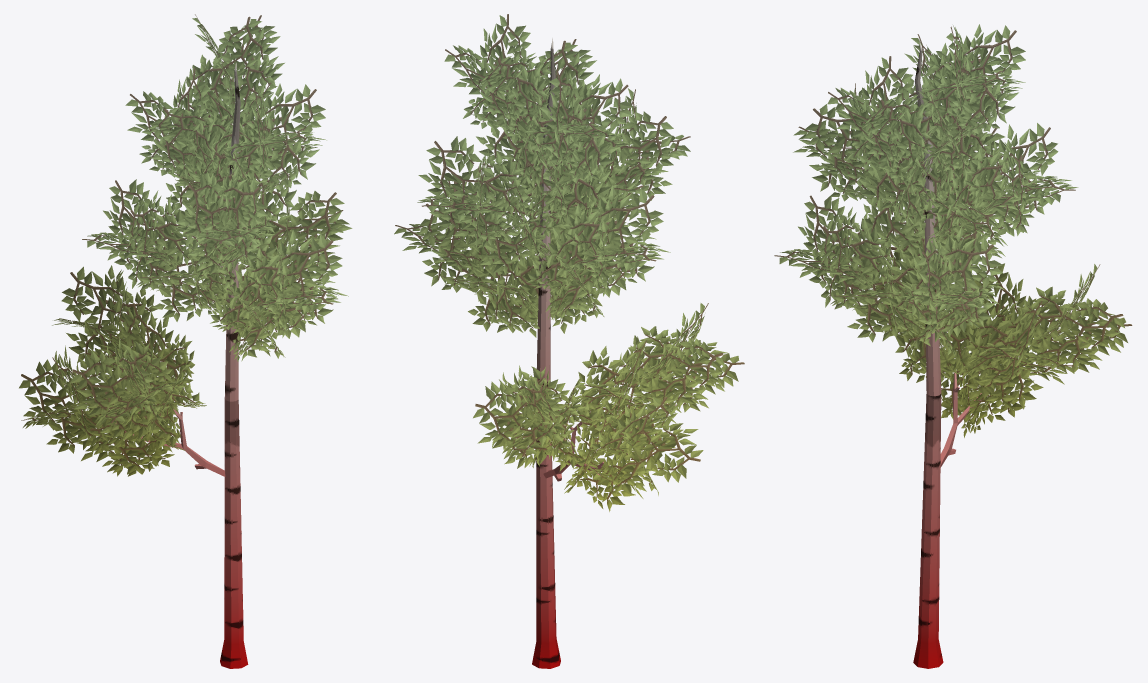
The model's file is source.gltf.
3 views of the same model, side by side, from view 1: azimuth 30°, elevation 25°; view 2: azimuth 150°, elevation 25°; view 3: azimuth 270°, elevation 25° (orthographic). The views are drawn at different scales.
Parts seen in each view (by area): view 1: SM_Tree_Birch_04; view 2: SM_Tree_Birch_04; view 3: SM_Tree_Birch_04.
Boxes of the visible parts, <box> form: SM_Tree_Birch_04: <box>19,14,352,668</box>; SM_Tree_Birch_04: <box>394,14,744,668</box>; SM_Tree_Birch_04: <box>774,24,1132,668</box>.
Bounding box in the file's own units: 2.52 × 4.89 × 2.46.
2 materials, 2 textured.
